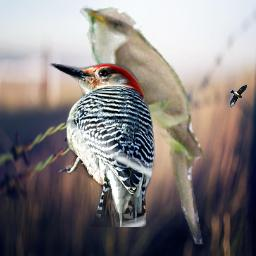Cuckoo: (75, 1, 208, 248)
Swallow: (229, 84, 247, 108)
Woodpecker: (44, 54, 160, 227)
